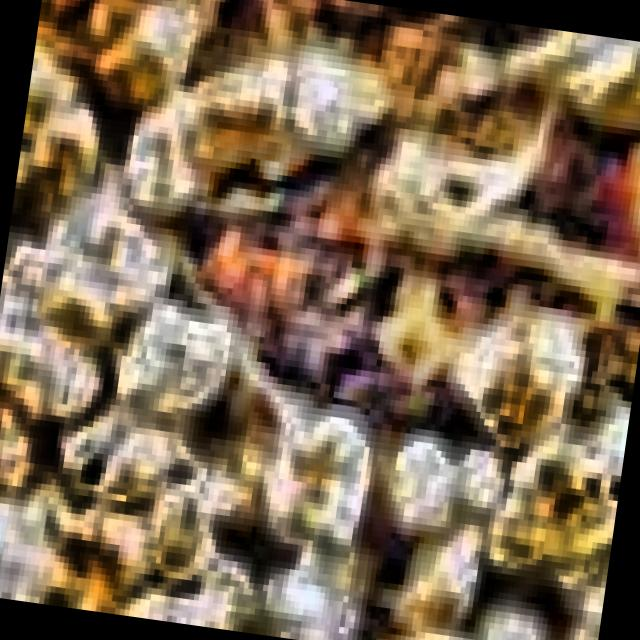Affected: (39, 460, 216, 626), (28, 0, 161, 117), (502, 430, 626, 551)
